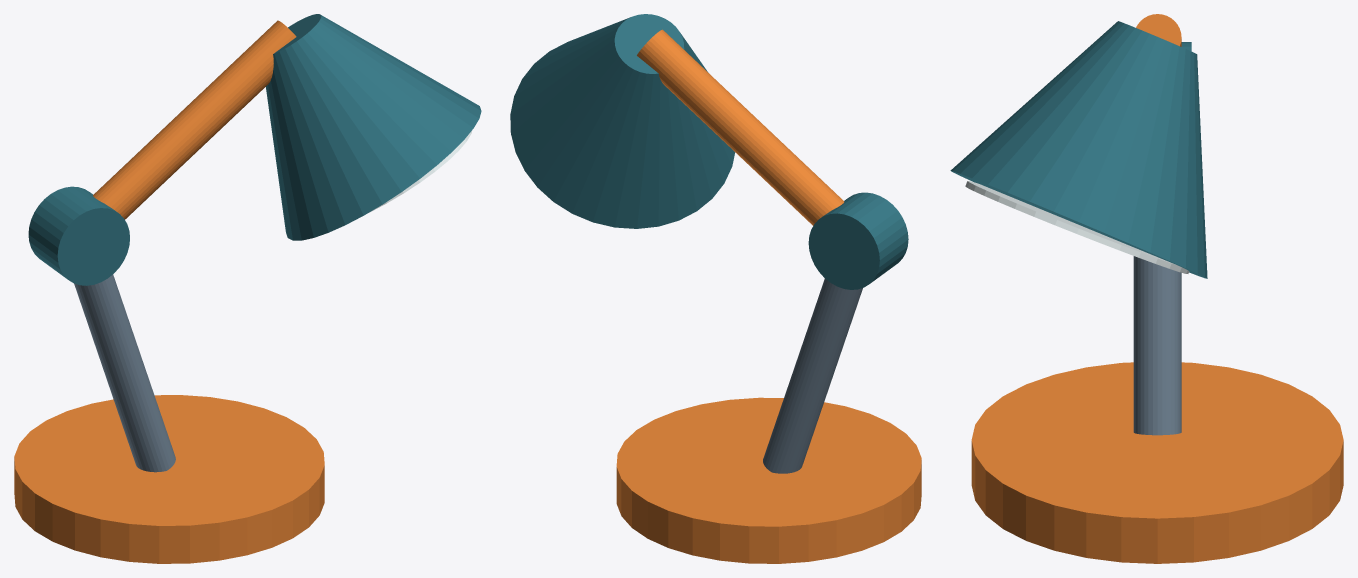
The model's file is lamp.glb.
3 renders of one model, left to right at view 1: azimuth 30°, elevation 25°; view 2: azimuth 150°, elevation 25°; view 3: azimuth 270°, elevation 25°, orthographic. The views are drawn at different scales.
Visible parts, largest first — view 1: base, shade, upper arm, lower arm, joint; view 2: base, shade, upper arm, lower arm, joint; view 3: base, shade, lower arm, diffuser, upper arm.
Boxes of the visible parts, bbox=[...] form: base: bbox=[14, 395, 324, 563]; shade: bbox=[266, 14, 481, 240]; upper arm: bbox=[93, 20, 296, 219]; lower arm: bbox=[74, 274, 175, 472]; joint: bbox=[28, 186, 129, 285]; base: bbox=[616, 397, 921, 563]; shade: bbox=[510, 14, 735, 228]; upper arm: bbox=[637, 29, 844, 225]; lower arm: bbox=[763, 278, 862, 473]; joint: bbox=[808, 192, 908, 289]; base: bbox=[971, 362, 1343, 563]; shade: bbox=[950, 21, 1207, 278]; lower arm: bbox=[1133, 256, 1181, 435]; diffuser: bbox=[965, 181, 1189, 273]; upper arm: bbox=[1136, 14, 1181, 46].
Size of the model in its own units: 1.58 by 1.67 by 1.1.
